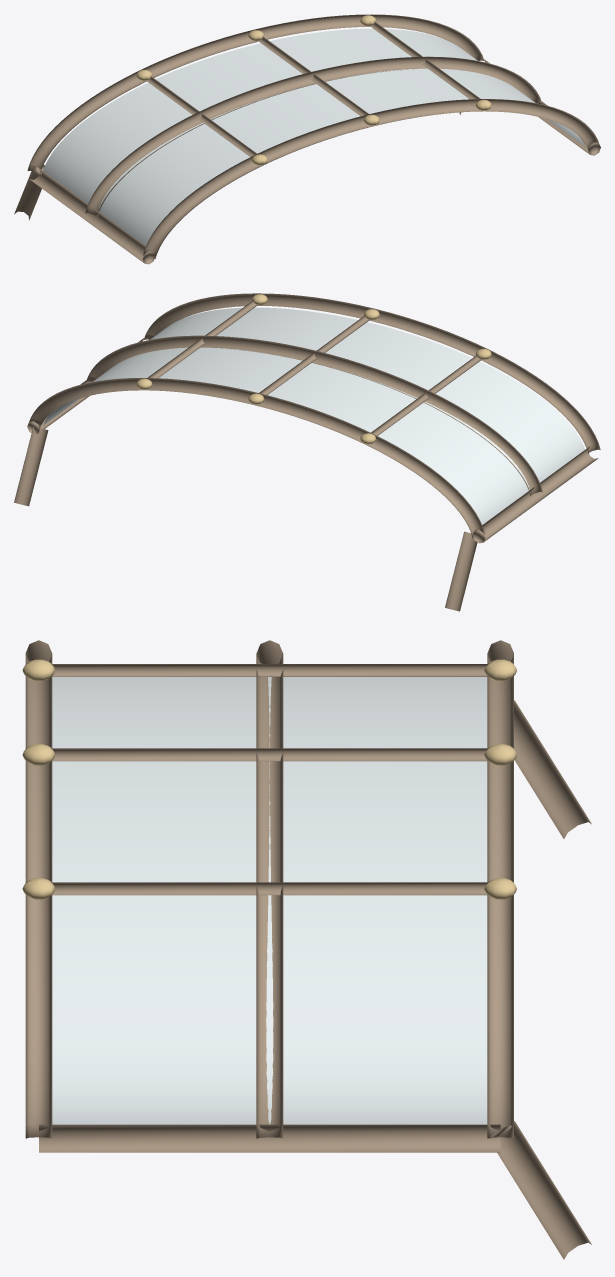
Rendered from skylight_roof.glb.
The picture shows the model from 3 angles, top to bottom: view 1: azimuth 30°, elevation 25°; view 2: azimuth 150°, elevation 25°; view 3: azimuth 270°, elevation 25°; orthographic projection. The views are drawn at different scales.
Parts seen in each view (by area): view 1: Skylight_Curved_Glass, Skylight_Frame; view 2: Skylight_Curved_Glass, Skylight_Frame; view 3: Skylight_Curved_Glass, Skylight_Frame.
Part boxes in pixels (x1,y1,x2,y2): Skylight_Curved_Glass: [43, 28, 585, 245]; Skylight_Frame: [14, 14, 600, 264]; Skylight_Curved_Glass: [43, 307, 584, 524]; Skylight_Frame: [14, 293, 600, 611]; Skylight_Curved_Glass: [52, 677, 487, 1124]; Skylight_Frame: [22, 640, 591, 1259].
Bounding box in the file's own units: 3.55 × 1.14 × 1.91.
